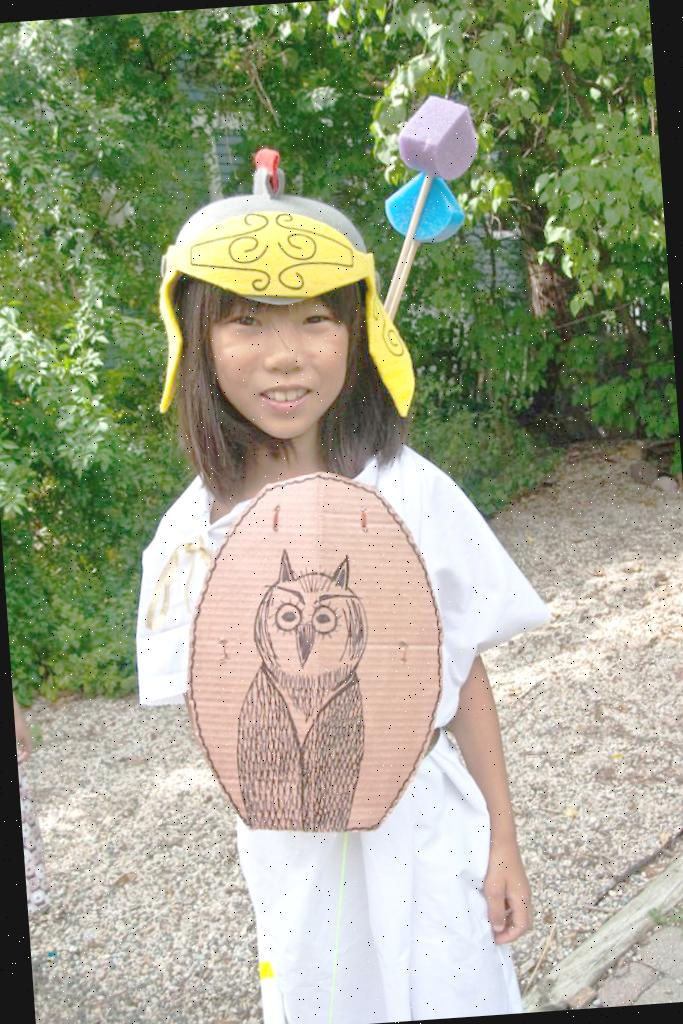Owl: (220, 543, 382, 840)
